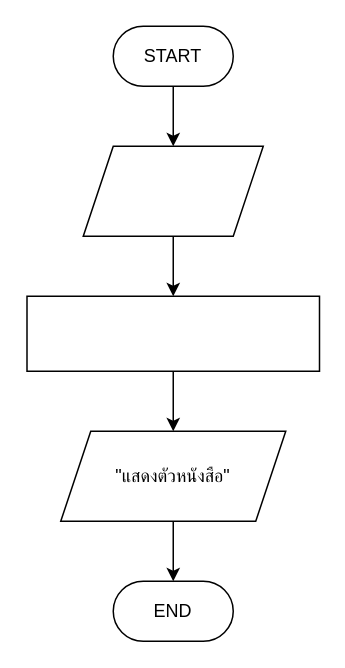
Image size: 345x668. Some labels were removed from this diagram. Here are the shapes that lost their labels. From the top down, the centre of each, then its label:
pixel 172 190: "User Input : "
pixel 173 333: นำตัวเลขมาเลือกข้อความที่เป็นคำอ่าน
